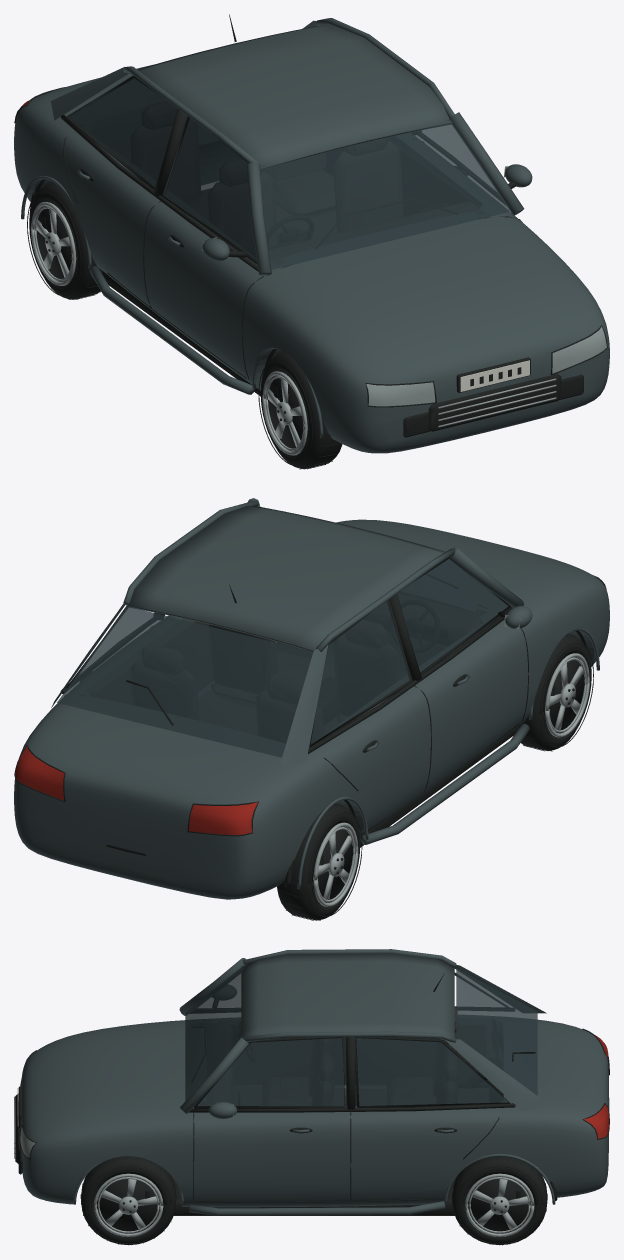
The model's file is parked-car.glb.
The picture shows the model from 3 angles, top to bottom: view 1: azimuth 30°, elevation 25°; view 2: azimuth 150°, elevation 25°; view 3: azimuth 270°, elevation 25°; orthographic projection. The views are drawn at different scales.
Visible parts, largest first — view 1: ParkedCar; view 2: ParkedCar; view 3: ParkedCar.
Part boxes in pixels (bbox=[...]): ParkedCar: bbox=[14, 14, 609, 469]; ParkedCar: bbox=[14, 498, 609, 920]; ParkedCar: bbox=[14, 949, 609, 1245].
Bounding box in the file's own units: 2.05 × 1.66 × 4.08.
